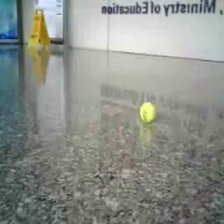tennis: (139, 102, 156, 124)
